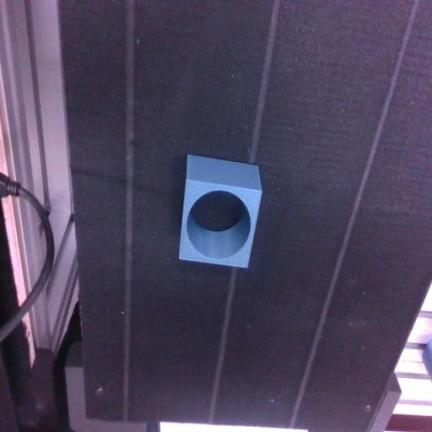hole: (179, 156, 261, 268)
